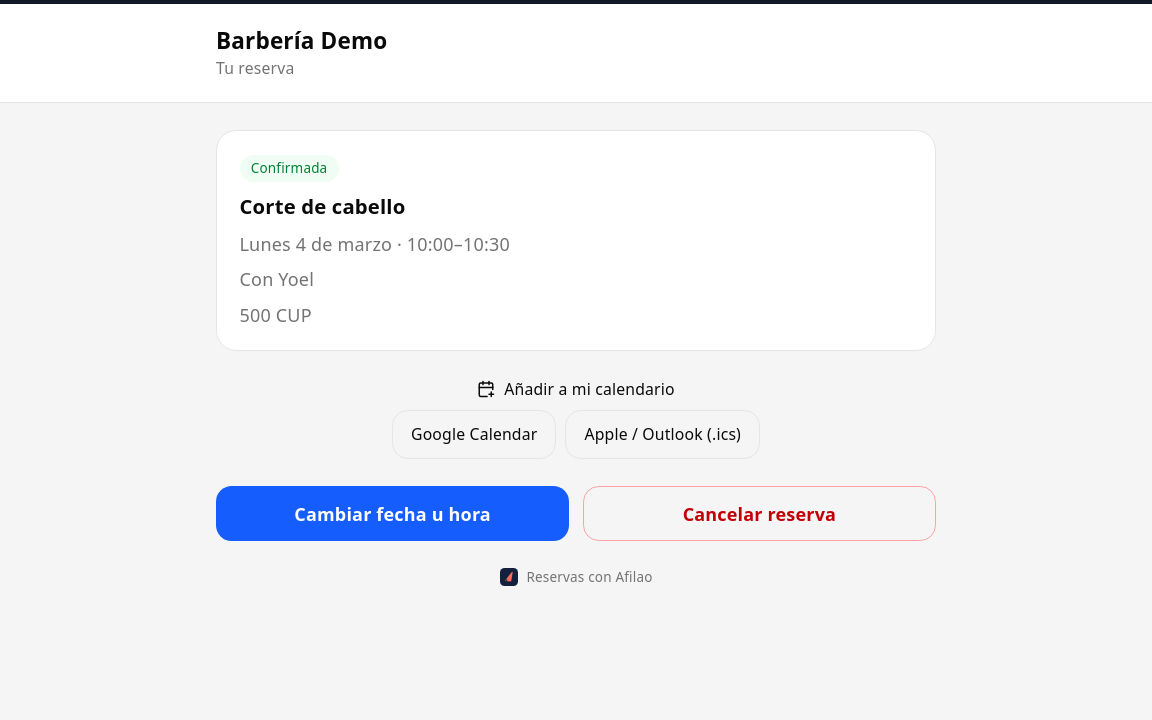
Gestionar mi reserva (enlace secreto) › cambiar de hora: elige día y hora nuevos y muestra la reserva actualizada
The width and height of the screenshot is (1152, 720).
Click the button "Cambiar fecha u hora" at (393, 514), box [216,486,569,541]
(page scrolled)
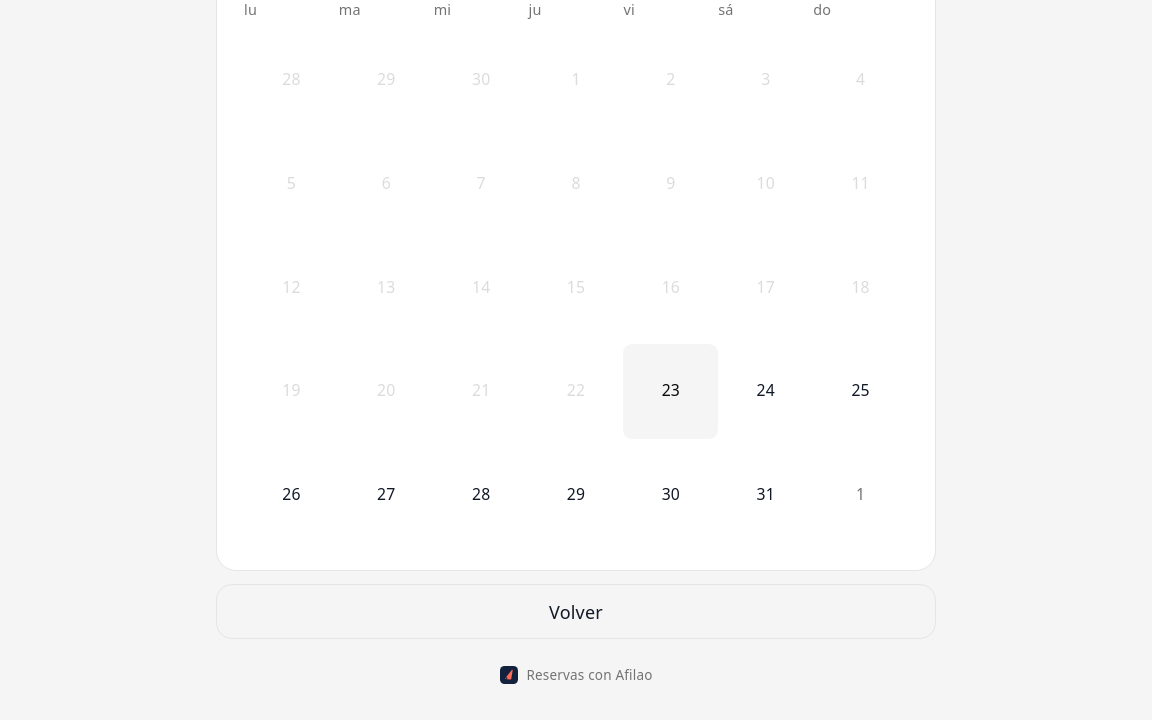
Check: the button "23" is shown
Click the button "23" at (671, 391), box [623,344,718,439]
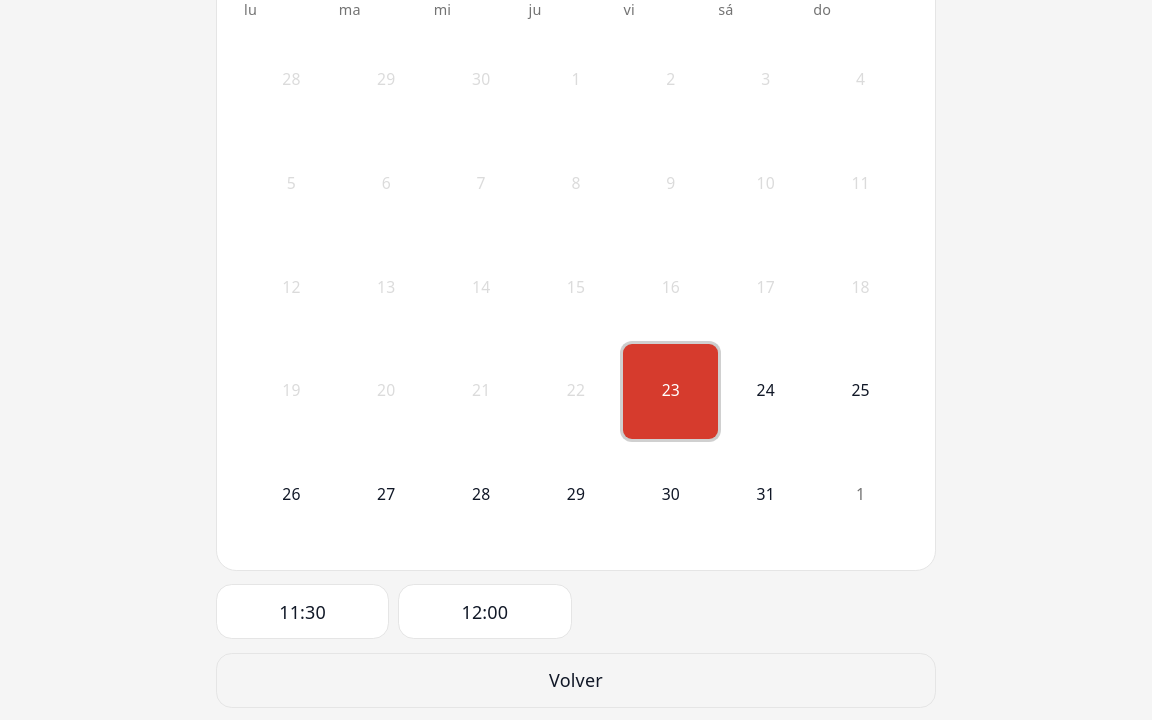
Click the button "11:30" at (303, 612), box [216,584,389,639]
(page scrolled)
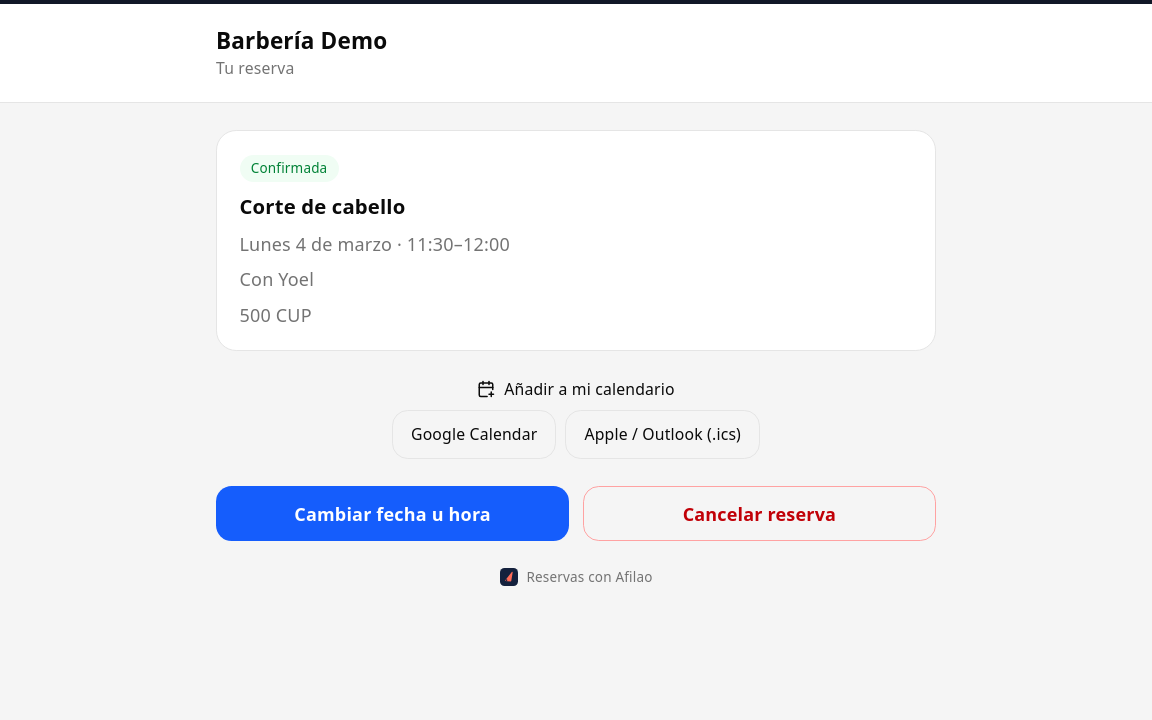
Check: the text "11:30–12:00" is shown, box [240,232,510,256]
